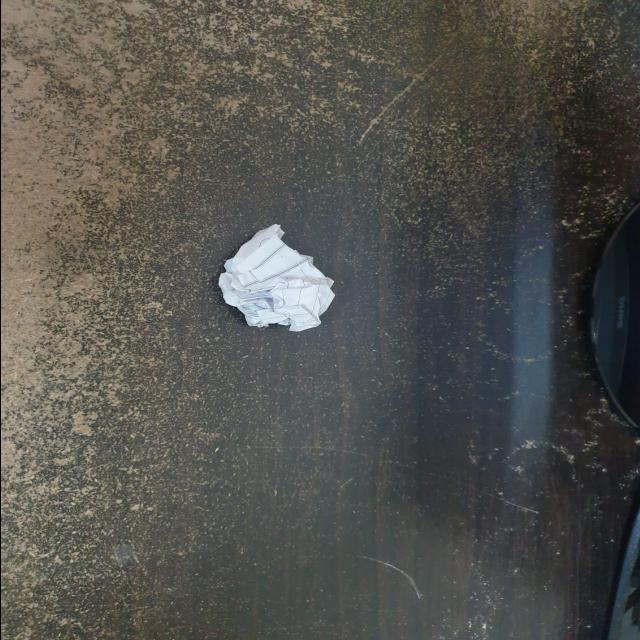kertas: (214, 220, 338, 334)
